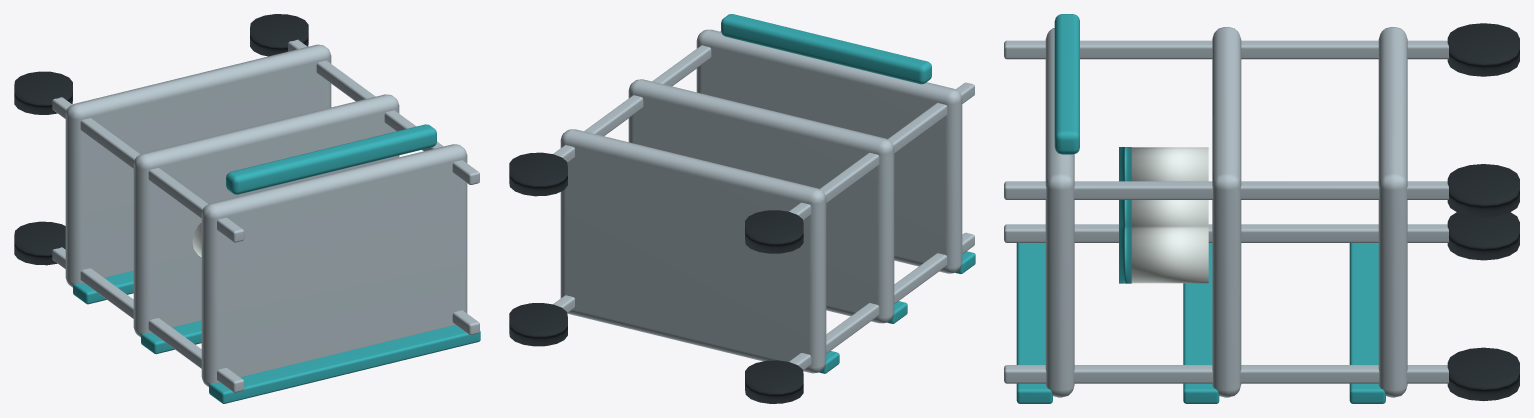
Rendered from hero_hospital_cart.glb.
3 renders of one model, left to right at view 1: azimuth 30°, elevation 25°; view 2: azimuth 150°, elevation 25°; view 3: azimuth 270°, elevation 25°, orthographic. The views are drawn at different scales.
Parts seen in each view (by area): view 1: Clinical cart tray.002, Clinical cart tray, Clinical cart tray.001, Clinical tray front lip.002, Cart push handle, Cart tube frame.001, Cart tube frame, Cart tube frame.003, Cart swivel caster.001, Cart swivel caster.003, Cart swivel caster, Clinical tray front lip (+2 smaller); view 2: Clinical cart tray, Clinical cart tray.001, Clinical cart tray.002, Cart push handle, Cart tube frame.001, Cart tube frame, Cart swivel caster.001, Cart swivel caster, Cart swivel caster.002, Cart swivel caster.003, Cart tube frame.003; view 3: Clinical cart tray.001, Clinical cart tray, Clinical cart tray.002, Cart tube frame.001, Cart tube frame.002, Cart tube frame.003, Cart tube frame, Sealed supply canister.002, Clinical tray front lip, Clinical tray front lip.002, Cart push handle, Cart swivel caster.002 (+8 smaller).
Part boxes in pixels (x1,y1,x2,y2): Clinical cart tray.002: (201,144,467,386); Clinical cart tray: (65,44,331,287); Clinical cart tray.001: (133,94,399,337); Clinical tray front lip.002: (209,325,480,403); Cart push handle: (226,124,436,194); Cart tube frame.001: (52,97,244,242); Cart tube frame: (52,247,244,392); Cart tube frame.003: (288,39,479,184); Cart swivel caster.001: (14,71,72,114); Cart swivel caster.003: (250,14,308,56); Cart swivel caster: (14,221,65,265); Clinical tray front lip: (73,270,133,304); Clinical cart tray: (560,129,826,373); Clinical cart tray.001: (628,79,894,323); Clinical cart tray.002: (696,29,962,273); Cart push handle: (721,14,931,84); Cart tube frame.001: (789,82,974,220); Cart tube frame: (789,232,974,370); Cart swivel caster.001: (745,210,803,253); Cart swivel caster: (745,360,803,403); Cart swivel caster.002: (509,303,567,346); Cart swivel caster.003: (509,152,567,196); Cart tube frame.003: (553,31,721,162); Clinical cart tray.001: (1212,27,1241,397); Clinical cart tray: (1378,27,1407,397); Clinical cart tray.002: (1045,28,1074,397); Cart tube frame.001: (1004,40,1448,59); Cart tube frame.002: (1004,365,1448,383); Cart tube frame.003: (1004,181,1448,199); Cart tube frame: (1004,224,1448,242); Sealed supply canister.002: (1131,226,1208,283); Clinical tray front lip: (1349,243,1385,403); Clinical tray front lip.002: (1016,243,1052,403); Cart push handle: (1054,14,1079,154); Cart swivel caster.002: (1447,347,1519,401).
Size of the model in its own units: 1.12 by 0.7775 by 1.42.
